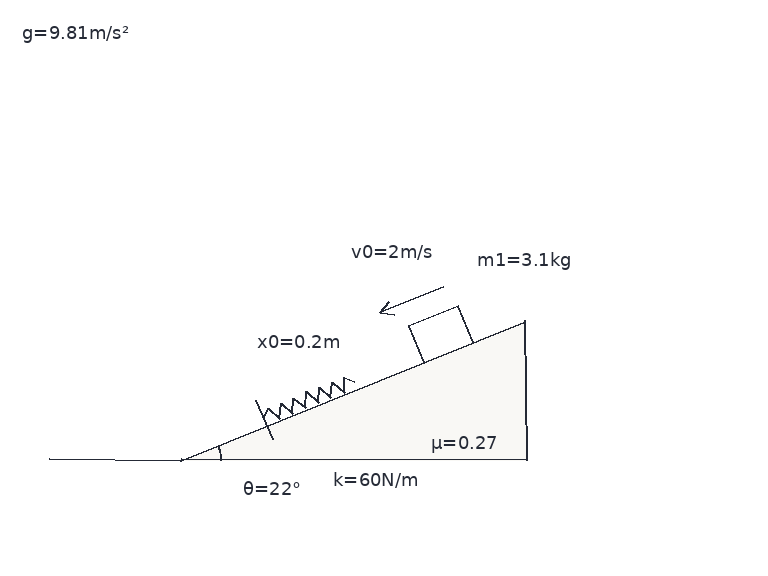block: (407, 304, 475, 364)
ramp: (179, 319, 528, 462)
spring: (262, 375, 356, 420)
